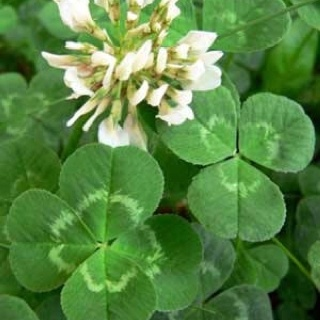4-clover: (8, 146, 202, 320)
